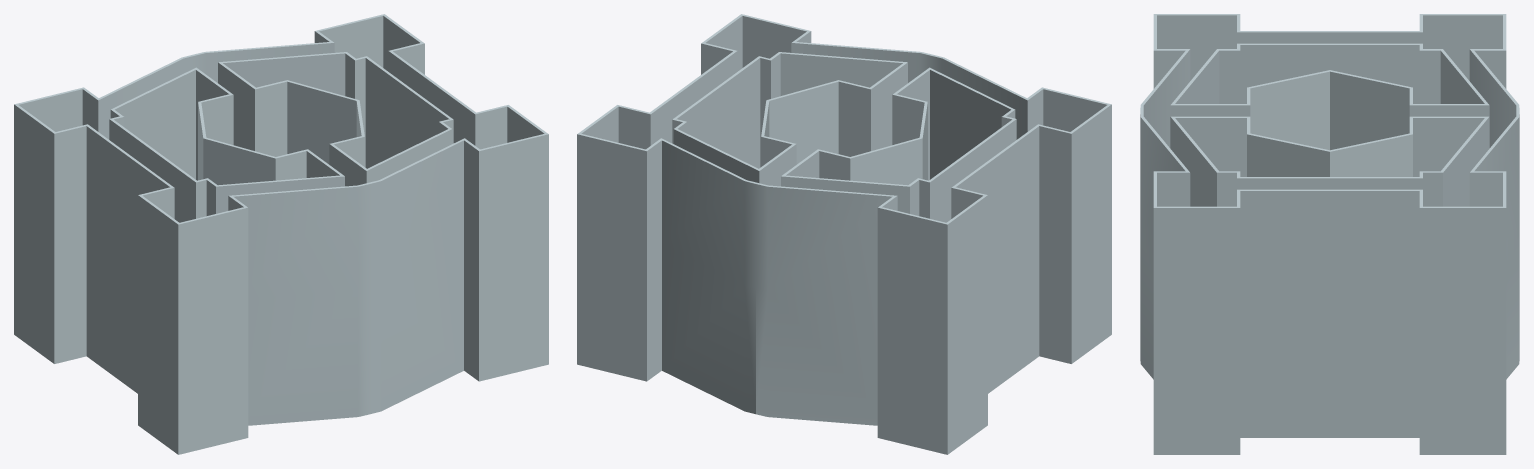
Rendered from Solaris_Collider.fbx.
The picture shows the model from 3 angles, left to right: view 1: azimuth 30°, elevation 25°; view 2: azimuth 150°, elevation 25°; view 3: azimuth 270°, elevation 25°; orthographic projection. The views are drawn at different scales.
Parts seen in each view (by area): view 1: Solaris_Collider; view 2: Solaris_Collider; view 3: Solaris_Collider.
Part boxes in pixels (x1,y1,x2,y2): Solaris_Collider: (14, 14, 548, 454); Solaris_Collider: (577, 14, 1111, 454); Solaris_Collider: (1140, 14, 1519, 454).
Size of the model in its own units: 34.5 by 20.5 by 28.52.
